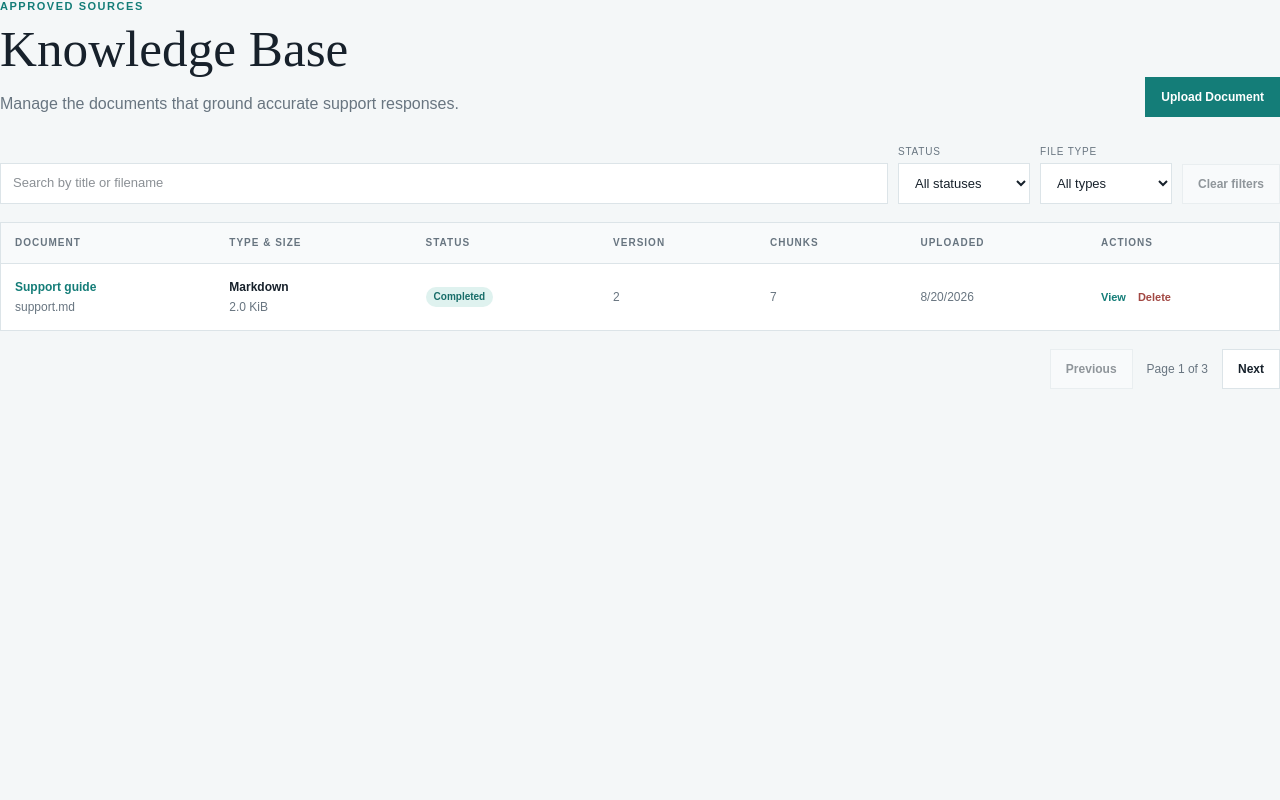
Test case: DocumentList › confirms and completes deletion
Step 1. Click the button "Delete" → {"x": 1154, "y": 297}, box [1138,290,1171,304]
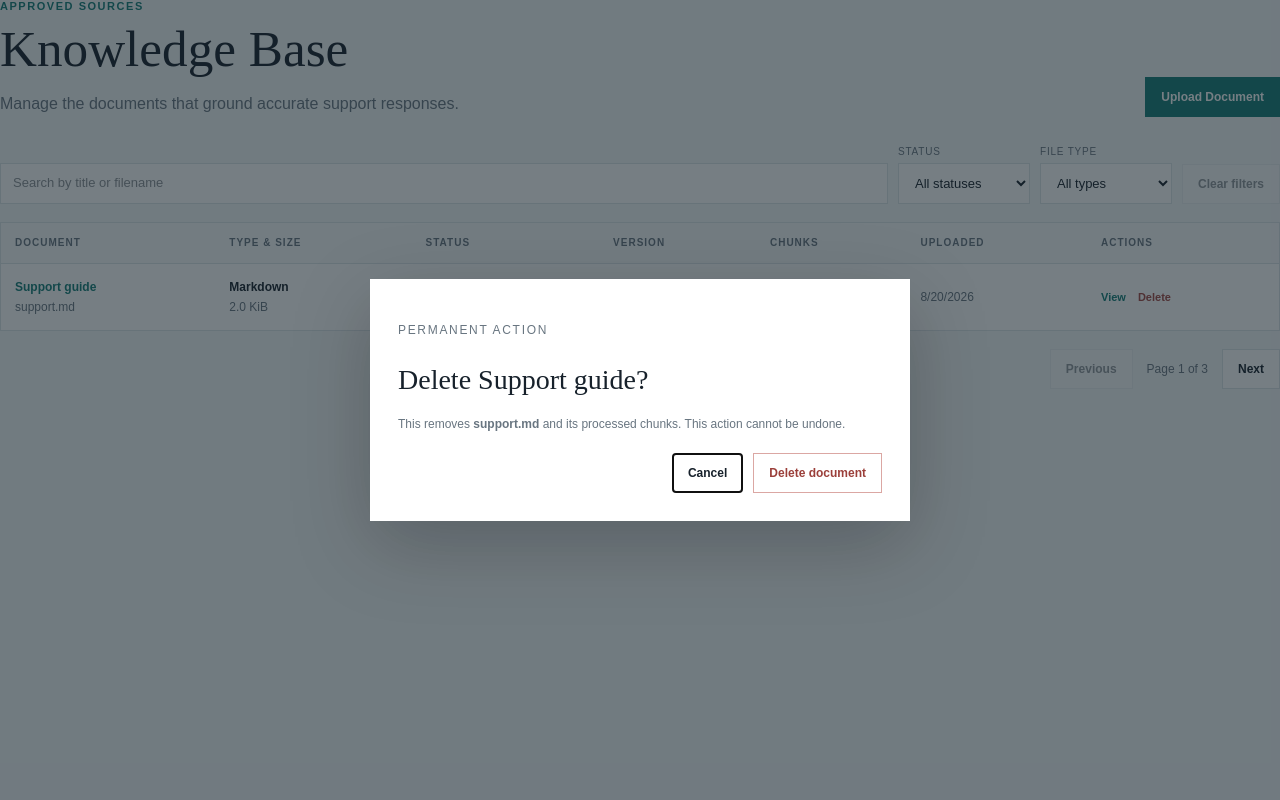
Expected: the dialog shows "Support guide", [478,364,636,395]
Step 2. Click the button "Delete document" → {"x": 818, "y": 473}, box [753,453,882,493]
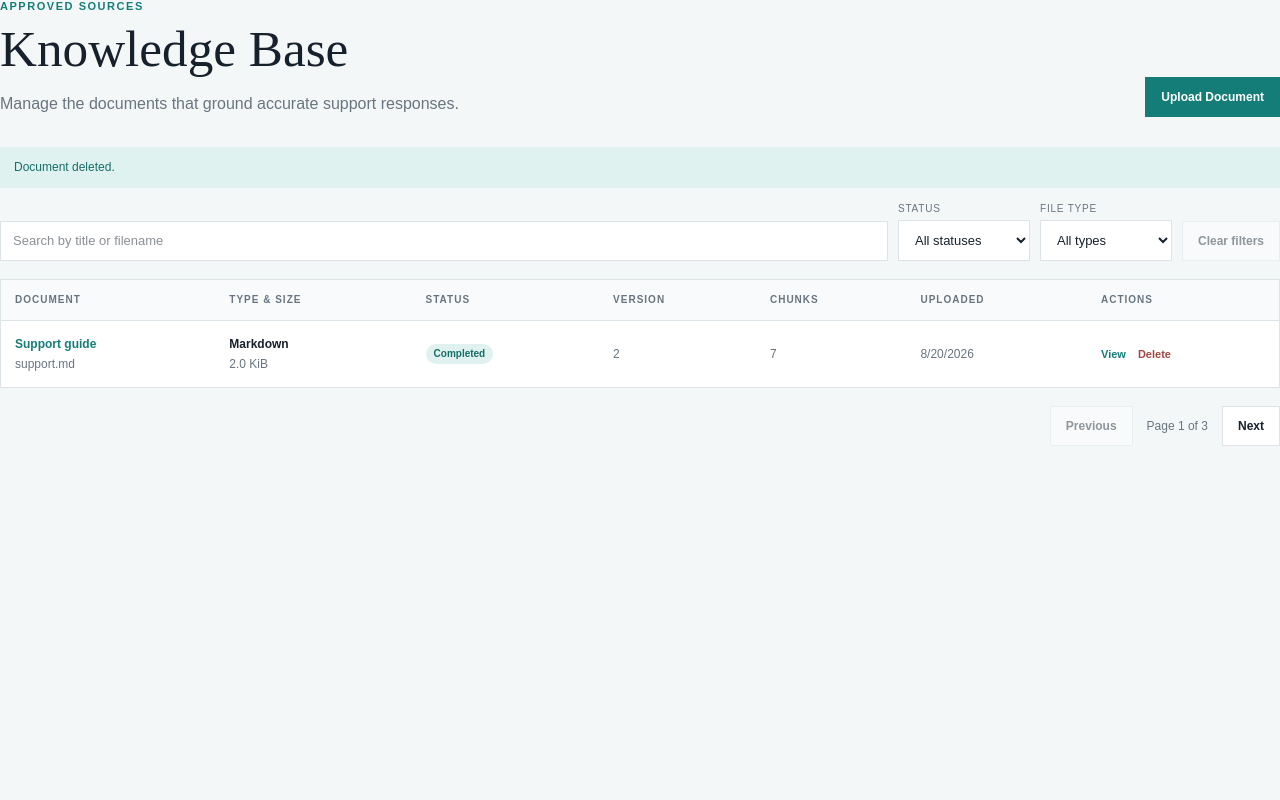
Expected: the message shows "Document deleted", [14,160,115,174]
